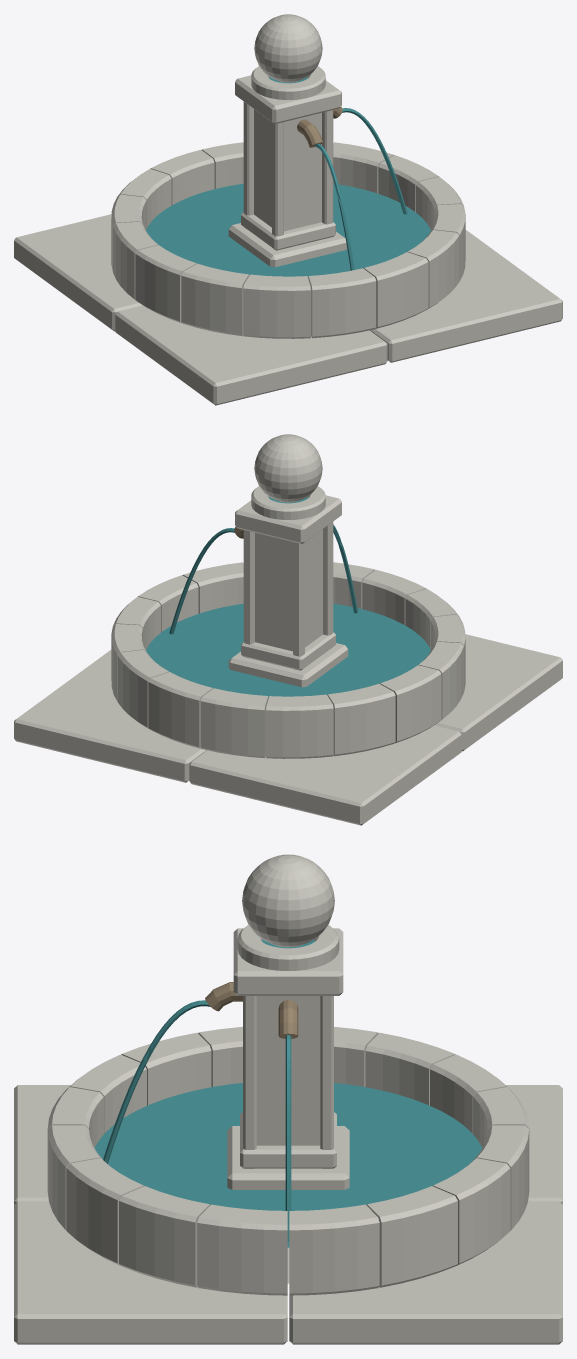
The model's file is native-fountain.glb.
The picture shows the model from 3 angles, top to bottom: view 1: azimuth 30°, elevation 25°; view 2: azimuth 150°, elevation 25°; view 3: azimuth 270°, elevation 25°; orthographic projection. The views are drawn at different scales.
Parts seen in each view (by area): view 1: limestone, water, bronze; view 2: limestone, water; view 3: limestone, water, bronze.
Boxes of the visible parts, x1,y1,x2,y2 form: limestone: (14, 14, 562, 405); water: (146, 77, 430, 277); bronze: (297, 107, 342, 147); limestone: (14, 434, 562, 825); water: (146, 497, 430, 697); limestone: (14, 854, 562, 1344); water: (94, 939, 482, 1247); bronze: (205, 982, 298, 1038).
Bounding box in the file's own units: 2.6 × 1.94 × 2.6.
